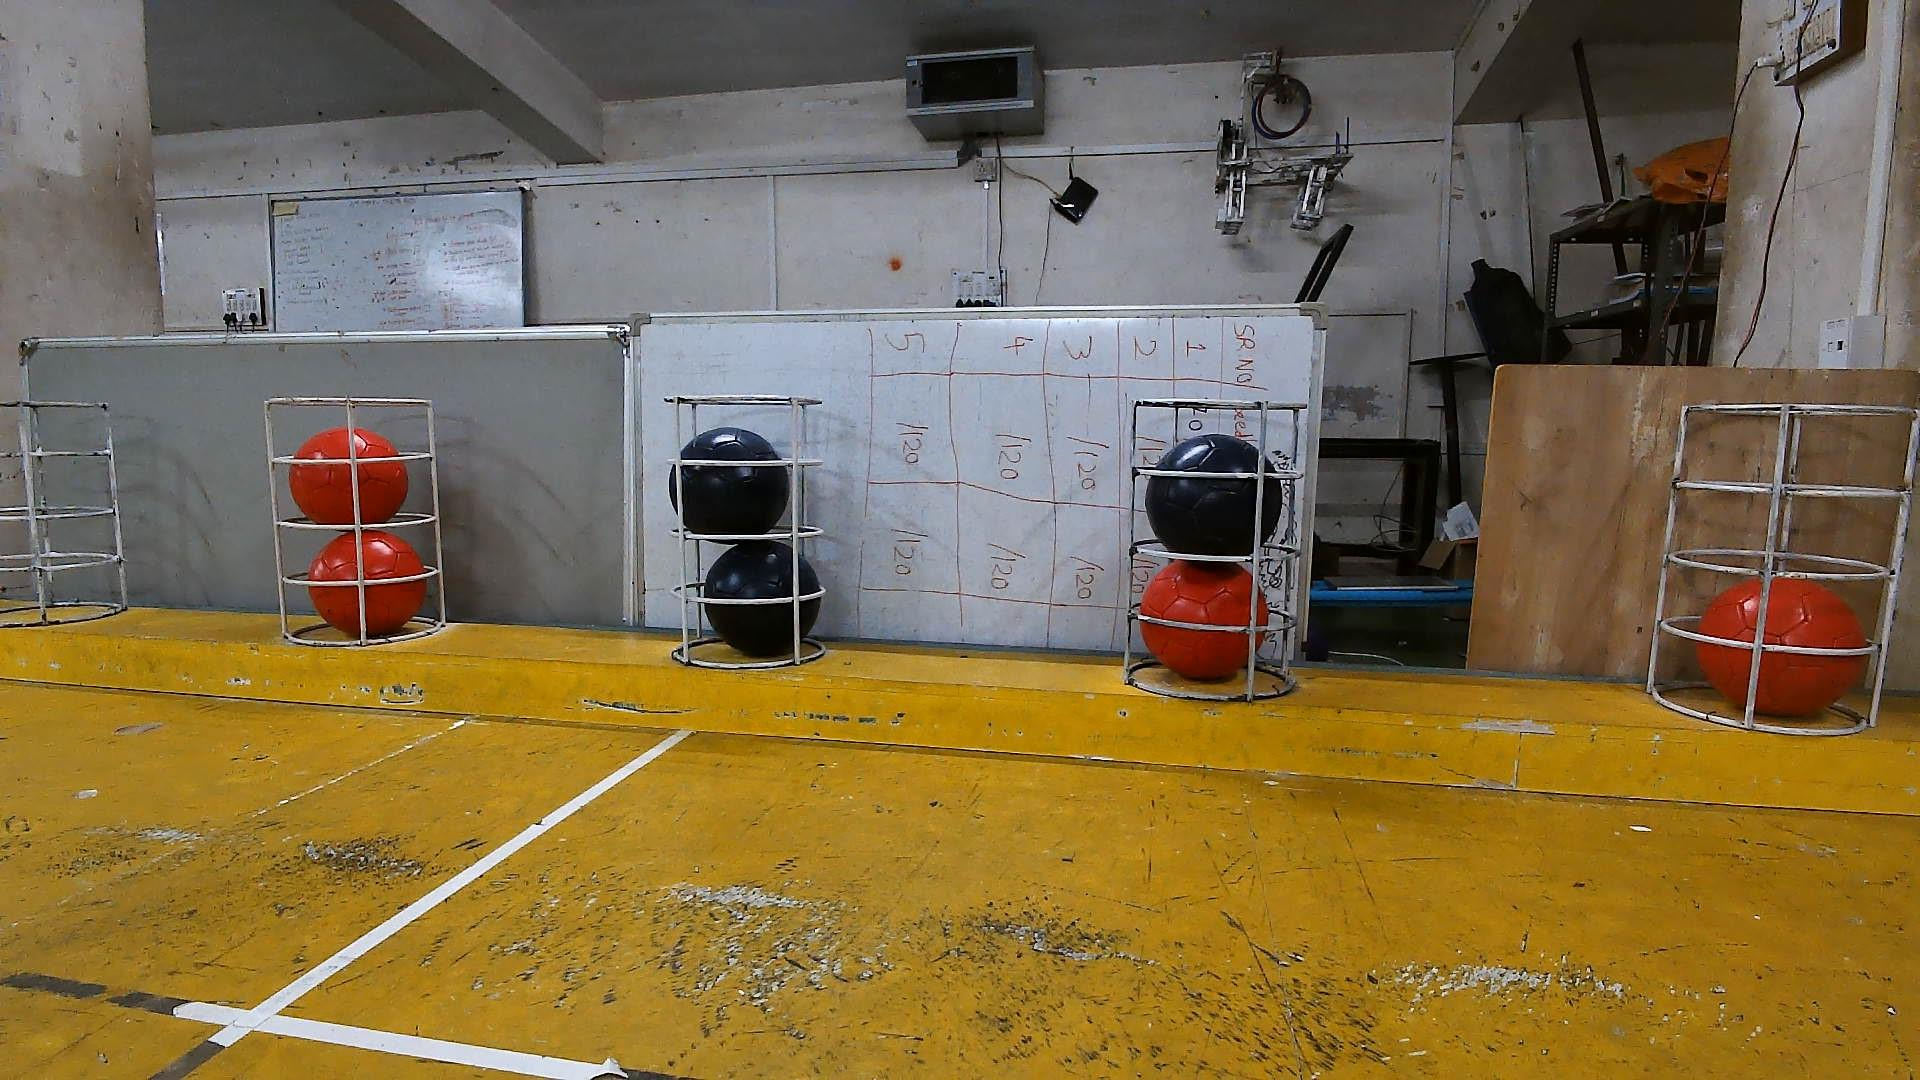dhoka: (1142, 431, 1286, 555), (702, 541, 822, 661), (667, 427, 791, 537)
laale: (1695, 578, 1867, 716), (1139, 560, 1255, 683), (307, 533, 427, 637), (285, 430, 405, 524)
